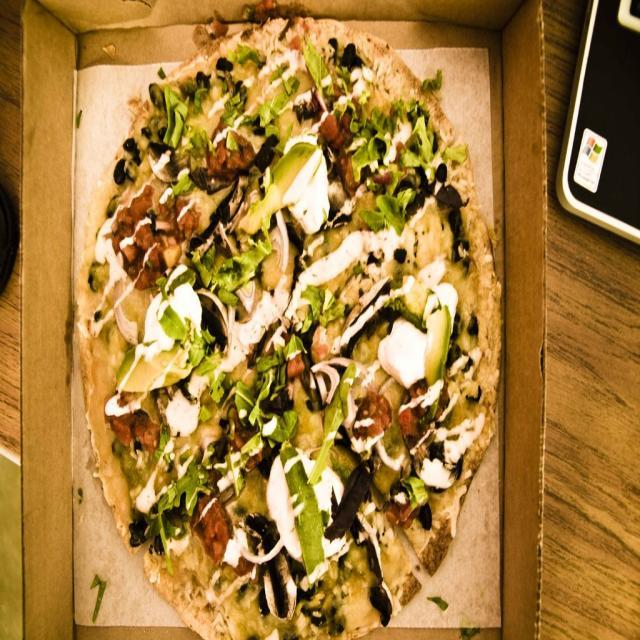Pizza: (42, 37, 514, 637)
